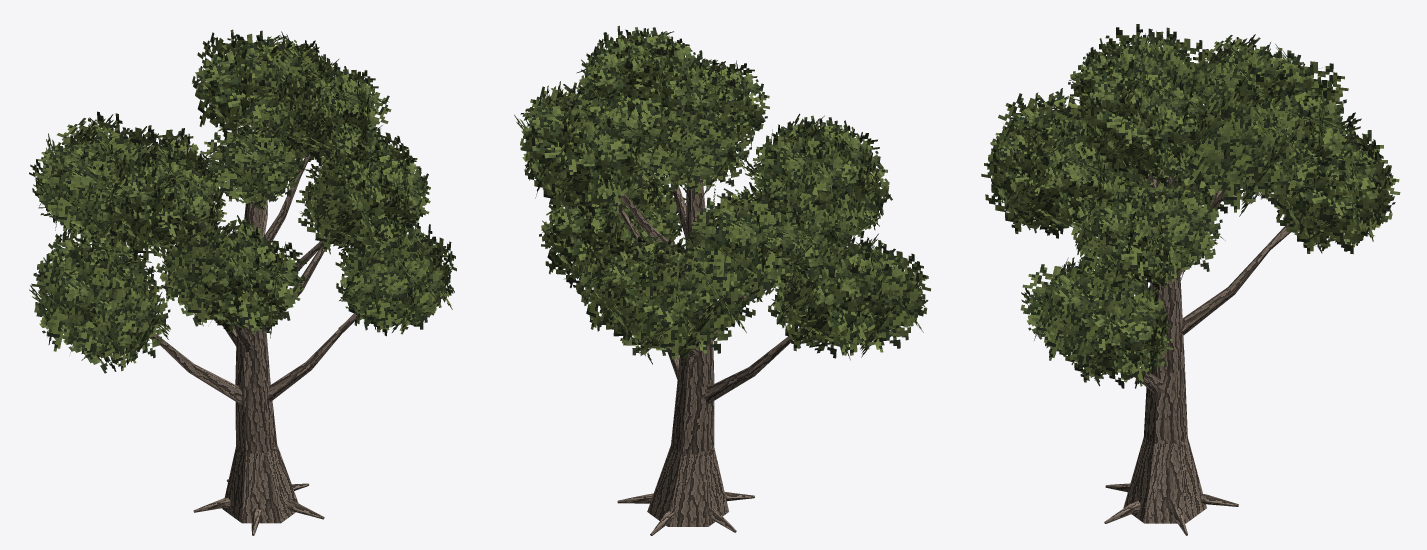
File: TREE_Oak_A_LOD1.glb
3 renders of one model, left to right at view 1: azimuth 30°, elevation 25°; view 2: azimuth 150°, elevation 25°; view 3: azimuth 270°, elevation 25°, orthographic. The views are drawn at different scales.
Parts seen in each view (by area): view 1: TREE_Oak_A_LOD1__Card, TREE_Oak_A_LOD1__Bark, TREE_Oak_A_LOD1__Foliage; view 2: TREE_Oak_A_LOD1__Card, TREE_Oak_A_LOD1__Bark, TREE_Oak_A_LOD1__Foliage; view 3: TREE_Oak_A_LOD1__Card, TREE_Oak_A_LOD1__Bark, TREE_Oak_A_LOD1__Foliage.
Part boxes in pixels (x1=…): TREE_Oak_A_LOD1__Card: x1=29, y1=29, x2=456, y2=373; TREE_Oak_A_LOD1__Bark: x1=149, y1=123, x2=359, y2=535; TREE_Oak_A_LOD1__Foliage: x1=67, y1=77, x2=421, y2=334; TREE_Oak_A_LOD1__Card: x1=514, y1=25, x2=930, y2=364; TREE_Oak_A_LOD1__Bark: x1=613, y1=125, x2=801, y2=535; TREE_Oak_A_LOD1__Foliage: x1=564, y1=67, x2=892, y2=324; TREE_Oak_A_LOD1__Card: x1=981, y1=24, x2=1400, y2=388; TREE_Oak_A_LOD1__Bark: x1=1104, y1=171, x2=1295, y2=535; TREE_Oak_A_LOD1__Foliage: x1=1033, y1=64, x2=1354, y2=351.
Size of the model in its own units: 10.32 by 10.59 by 9.02.
Materials: 3 (3 with a texture image).
